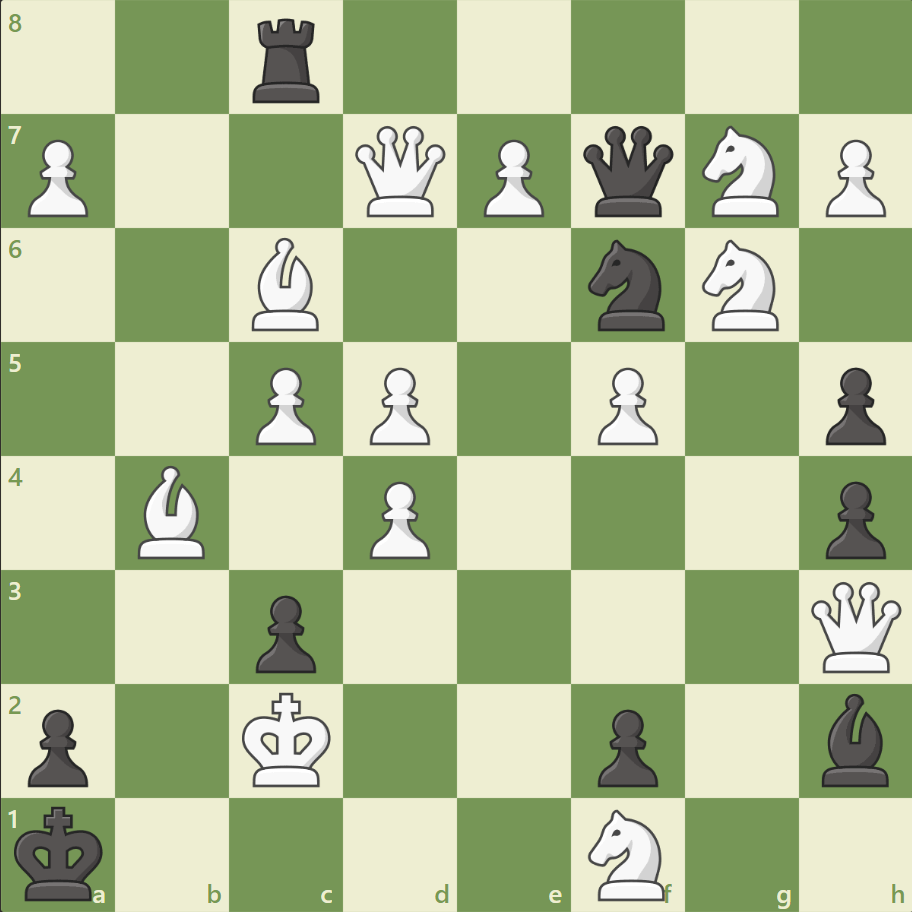B: (244, 233, 328, 336), (131, 460, 215, 563)
K: (238, 685, 338, 793)
N: (692, 234, 789, 337), (692, 121, 789, 223), (579, 802, 676, 904)
P: (20, 132, 95, 223), (474, 132, 549, 223), (247, 359, 322, 450), (815, 132, 889, 223), (361, 359, 435, 450), (588, 359, 662, 450), (361, 473, 435, 564)
Q: (351, 122, 450, 222), (805, 576, 904, 676)
b: (812, 687, 896, 790)
k: (11, 798, 111, 906)
n: (579, 234, 676, 337)
p: (247, 586, 322, 677), (20, 700, 95, 791), (815, 359, 889, 450), (815, 473, 889, 564), (588, 700, 662, 791)
q: (578, 122, 677, 222)
r: (246, 12, 329, 109)
